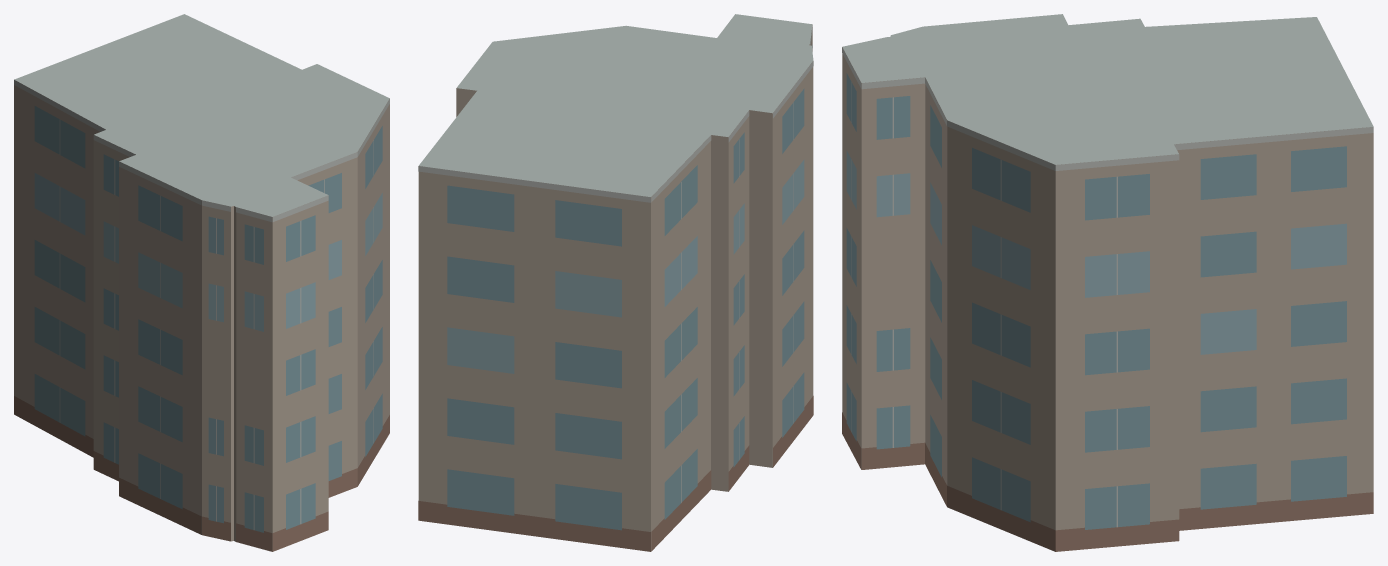
File: survey-upis-32534309.glb
3 renders of one model, left to right at view 1: azimuth 30°, elevation 25°; view 2: azimuth 150°, elevation 25°; view 3: azimuth 270°, elevation 25°, orthographic. The views are drawn at different scales.
Parts seen in each view (by area): view 1: survey-upis-32534309.tmp; view 2: survey-upis-32534309.tmp; view 3: survey-upis-32534309.tmp.
Boxes of the visible parts, left/top/right/bottom form: survey-upis-32534309.tmp: left=14, top=14, right=389, bottom=551; survey-upis-32534309.tmp: left=418, top=14, right=813, bottom=551; survey-upis-32534309.tmp: left=842, top=14, right=1373, bottom=551.
Size of the model in its own units: 12.77 by 15.25 by 19.
